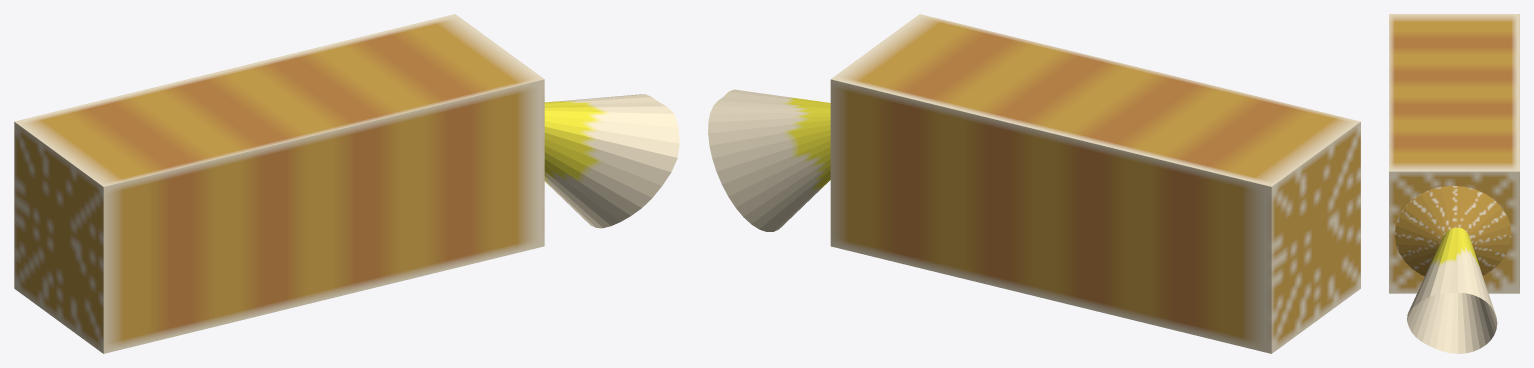
File: Bread.fbx
The picture shows the model from 3 angles, left to right: view 1: azimuth 30°, elevation 25°; view 2: azimuth 150°, elevation 25°; view 3: azimuth 270°, elevation 25°; orthographic projection. The views are drawn at different scales.
Parts seen in each view (by area): view 1: Bread; view 2: Bread; view 3: Bread.
Part boxes in pixels (x1,y1,x2,y2): Bread: [14, 14, 679, 353]; Bread: [708, 14, 1360, 353]; Bread: [1389, 14, 1519, 353].
Bounding box in the file's own units: 272 × 88.23 × 70.1.
Materials: 3 (3 with a texture image).
